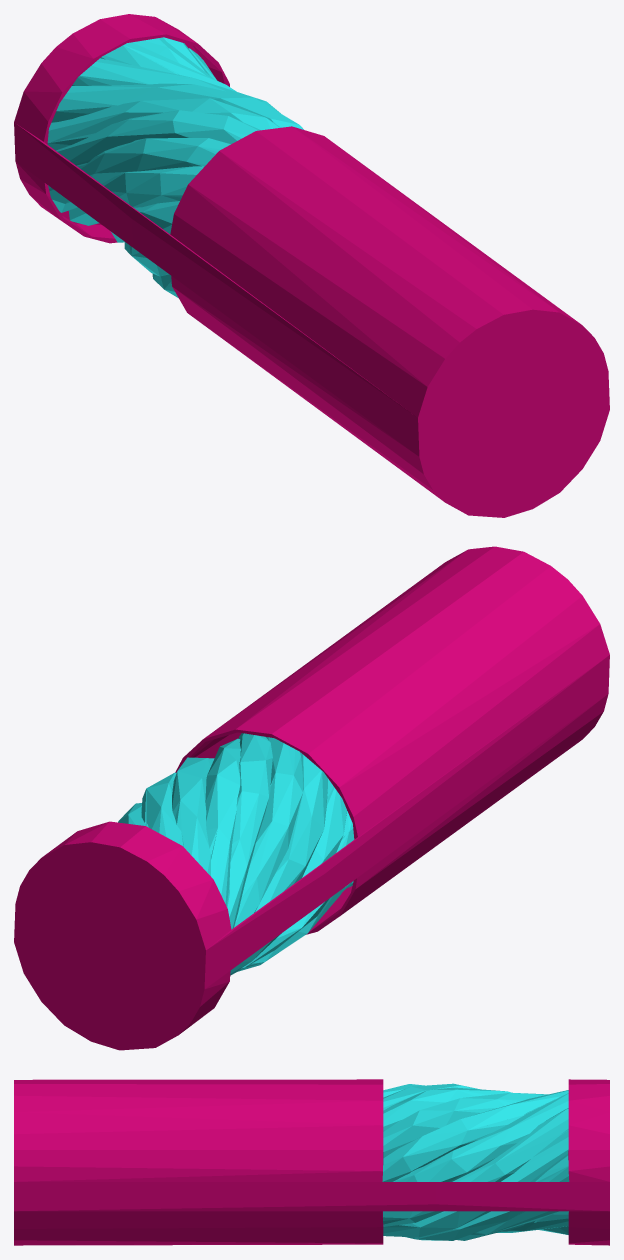
Rendered from Power _Line_End.fbx.
3 renders of one model, top to bottom at view 1: azimuth 30°, elevation 25°; view 2: azimuth 150°, elevation 25°; view 3: azimuth 270°, elevation 25°, orthographic. The views are drawn at different scales.
Visible parts, largest first — view 1: Power_Cable_LOD0.002; view 2: Power_Cable_LOD0.002; view 3: Power_Cable_LOD0.002.
Boxes of the visible parts, x1,y1,x2,y2 form: Power_Cable_LOD0.002: (14,14,609,517); Power_Cable_LOD0.002: (14,546,609,1050); Power_Cable_LOD0.002: (14,1079,609,1245).
Bounding box in the file's own units: 199 × 200 × 720.
